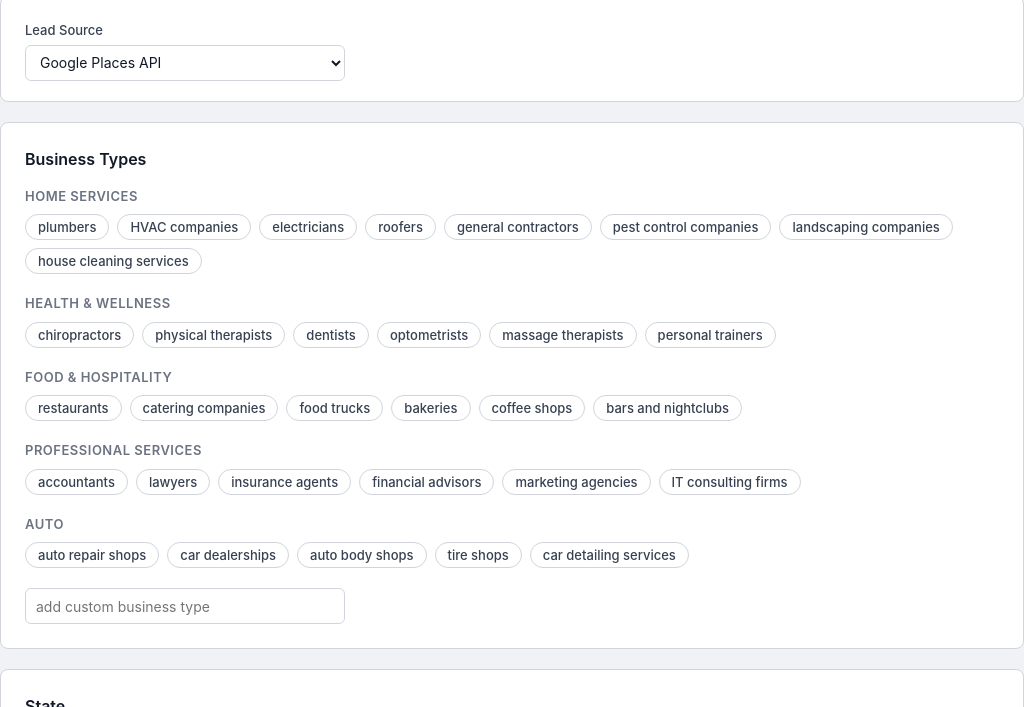
Test case: ConfigBuilder — cycling YAML shape (issue #19) › confirm step for multiple types shows per-type breakdown and combined total
The image size is (1024, 707).
Note: Select 3 types
Click the checkbox labelled "plumbers". click: (67, 227)
box: [25, 214, 109, 240]
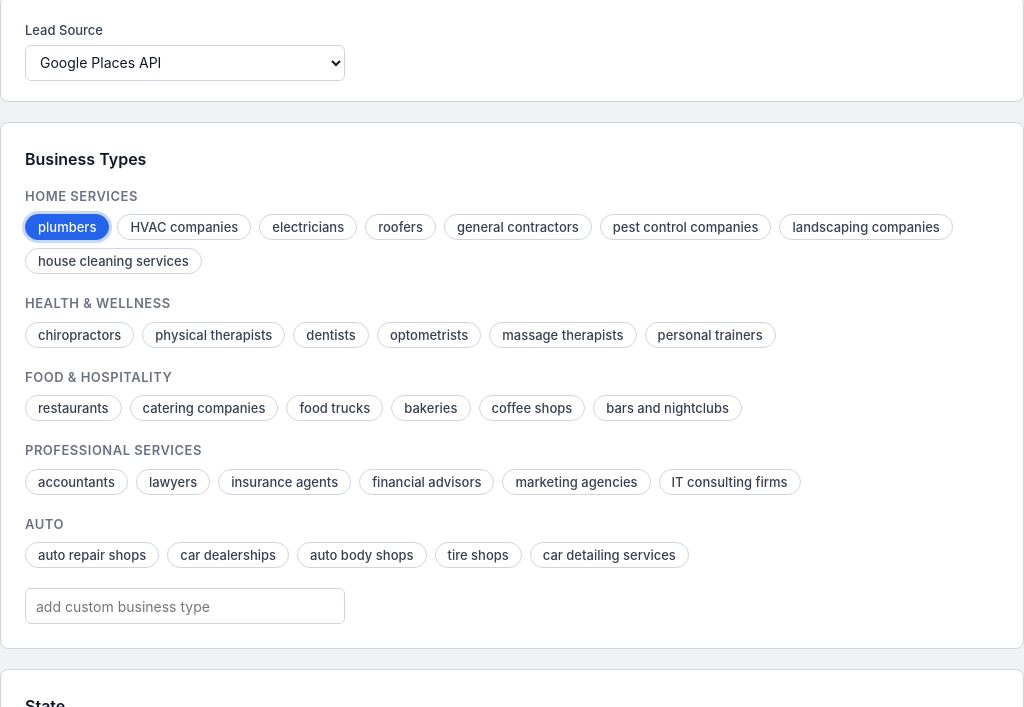
Click the checkbox labelled "HVAC companies". click: (184, 227)
box: [117, 214, 251, 240]
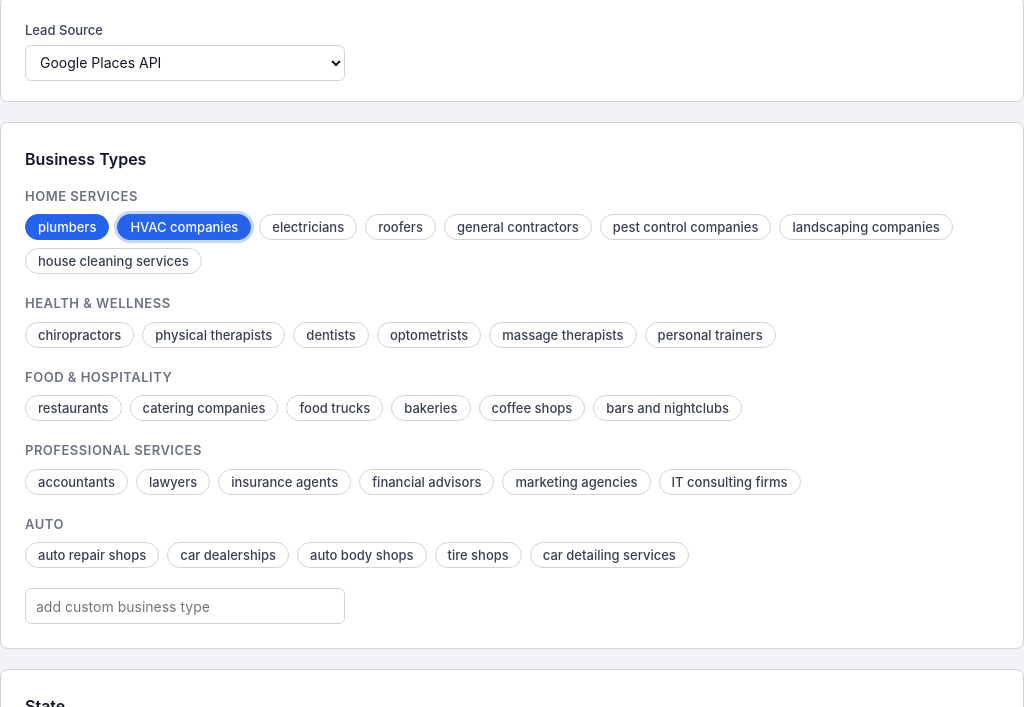
Click the checkbox labelled "electricians". click: (308, 227)
box: [259, 214, 357, 240]
(page scrolled)
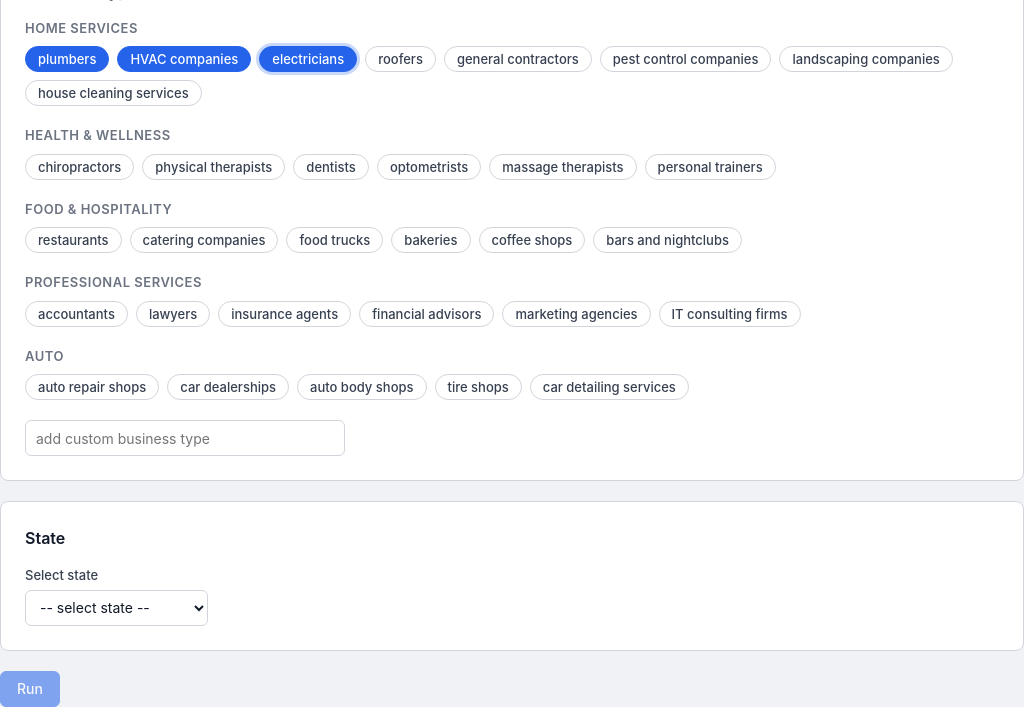
Select "Texas (TX)" in the dropdown labelled "Select state". click: (116, 608)
box: [25, 590, 208, 626]
(page scrolled)
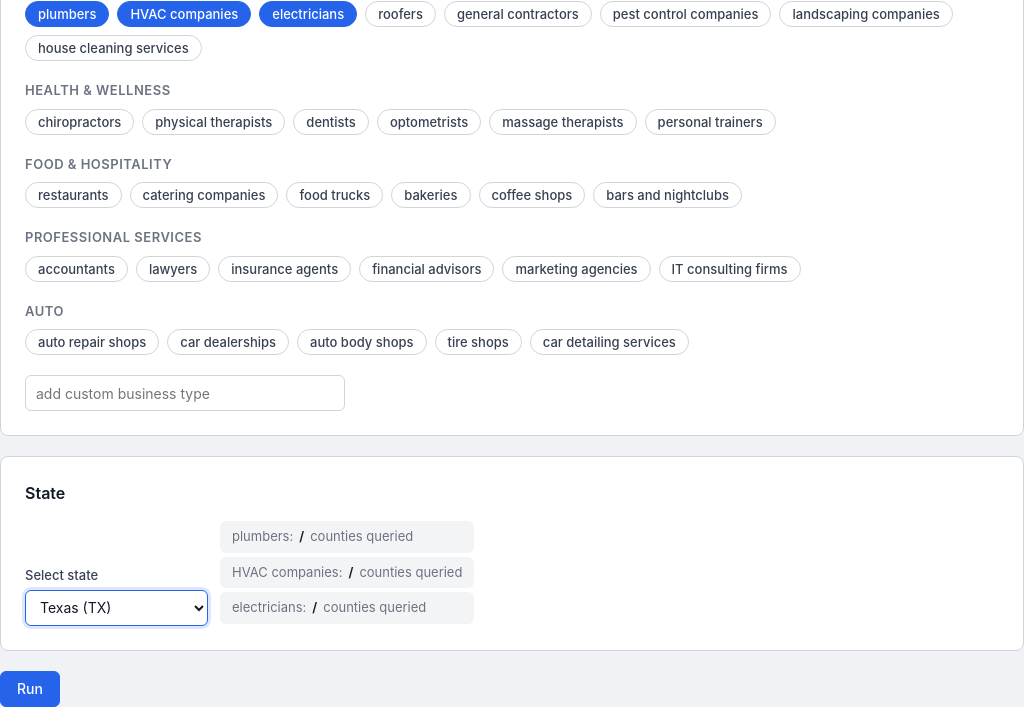
Click the button "Run". click: (30, 688)
box: [0, 670, 60, 706]
(page scrolled)
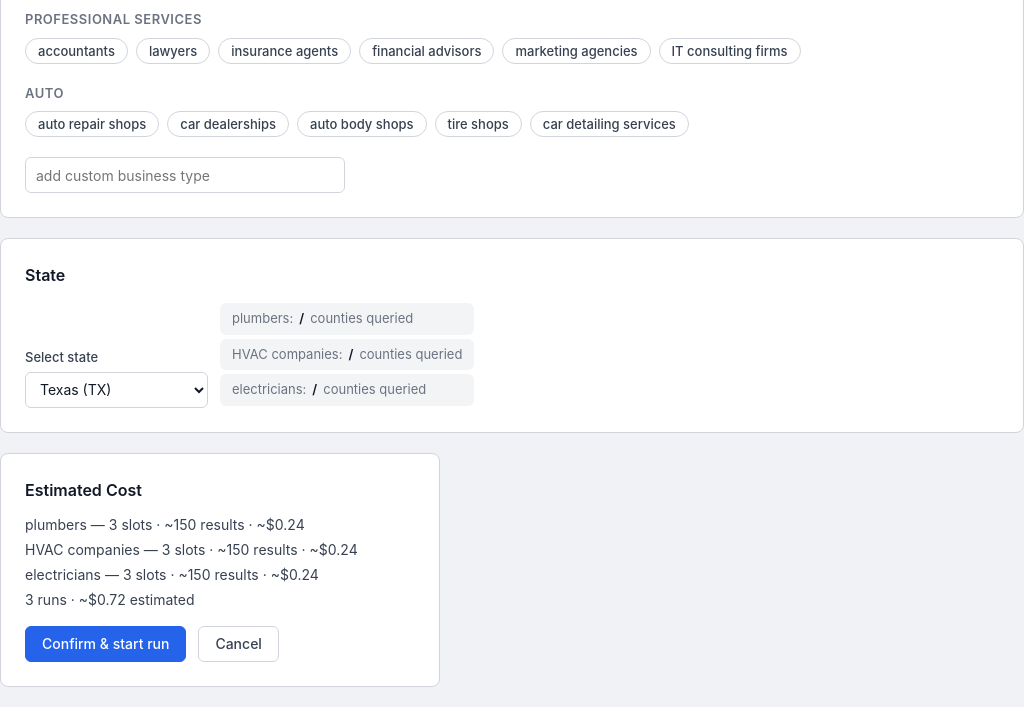
Expected: the text "plumbers — 3 slots · ~150 results · ~$0.24" is shown, [25, 516, 305, 532]
Expected: the text "HVAC companies — 3 slots · ~150 results · ~$0.24" is shown, [25, 538, 415, 560]
Expected: the text "electricians — 3 slots · ~150 results · ~$0.24" is shown, [25, 566, 319, 582]
